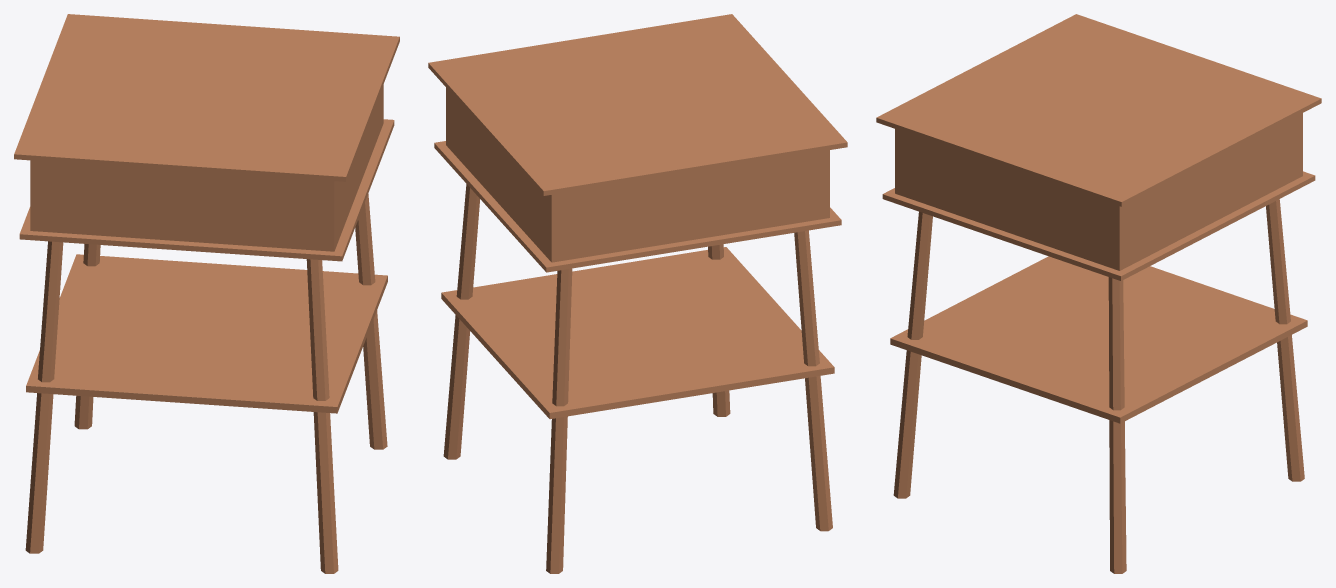
File: table_single.obj
3 renders of one model, left to right at view 1: azimuth 30°, elevation 25°; view 2: azimuth 150°, elevation 25°; view 3: azimuth 270°, elevation 25°, orthographic. The views are drawn at different scales.
Parts seen in each view (by area): view 1: table_single_Cube.001; view 2: table_single_Cube.001; view 3: table_single_Cube.001.
Boxes of the visible parts, x1=… form: table_single_Cube.001: x1=14, y1=14, x2=399, y2=573; table_single_Cube.001: x1=428, y1=14, x2=847, y2=573; table_single_Cube.001: x1=876, y1=14, x2=1321, y2=573.
Bounding box in the file's own units: 2.17 × 2.04 × 2.17.
